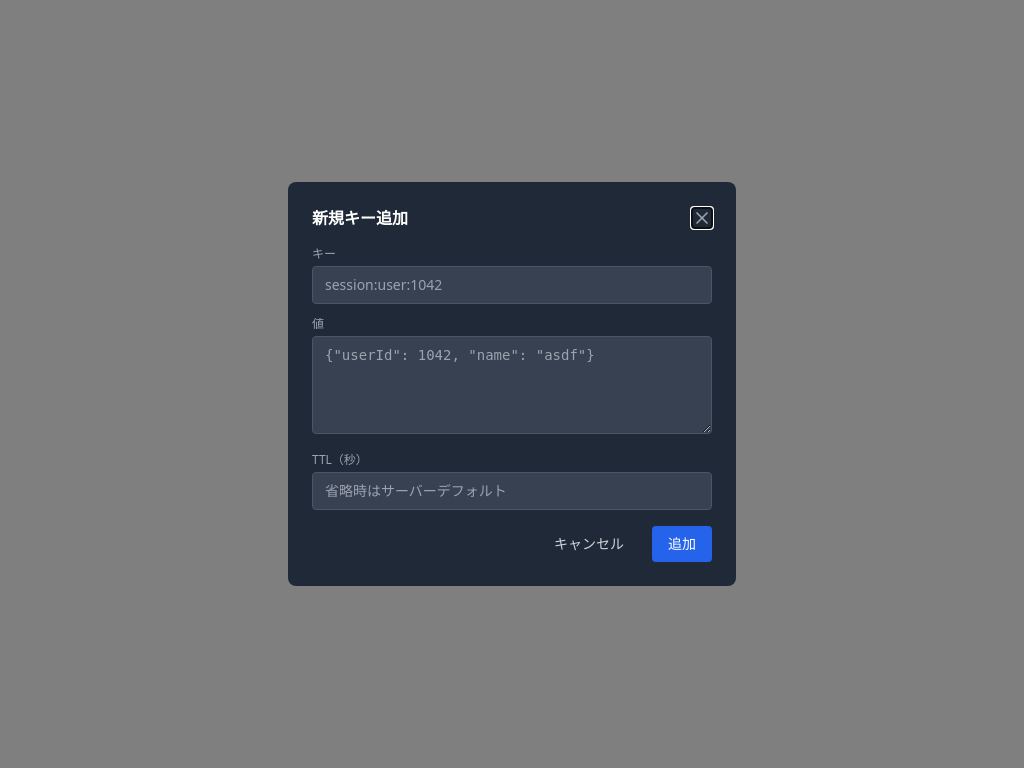
AddKeyModal › shows error when submitting with empty value
This screenshot has width=1024, height=768.
Type "my:key" into the field labelled "キー". click: (512, 285)
box: [312,266,712,304]
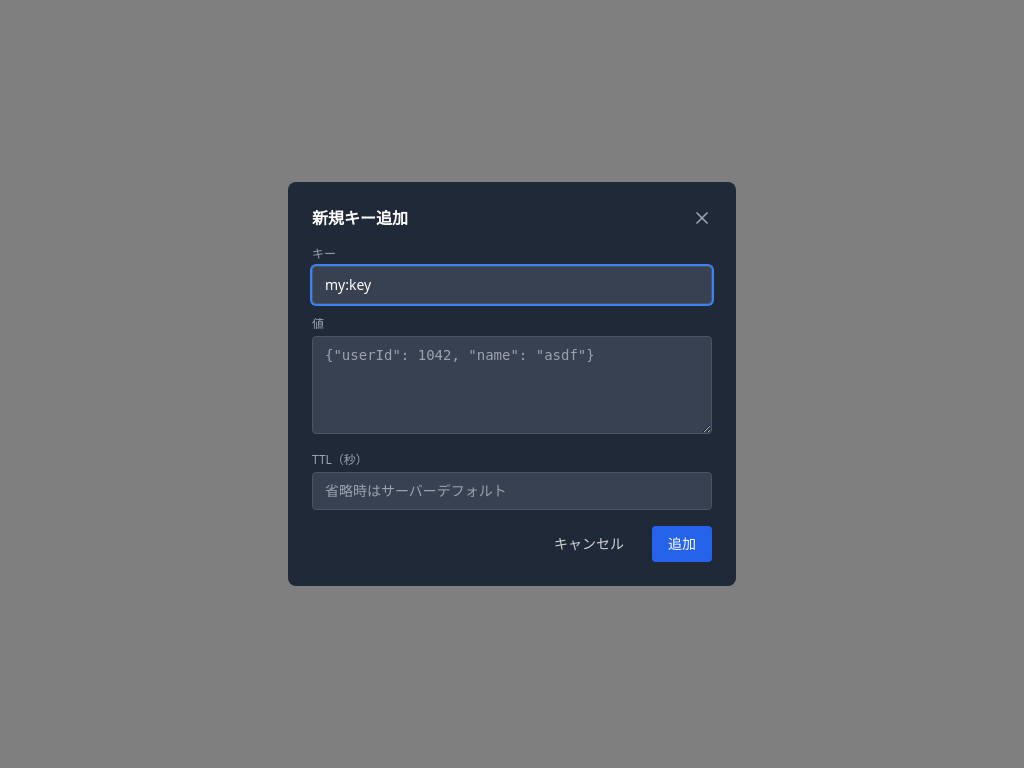
Click the button "追加". click: (682, 544)
box: [652,526,712,562]
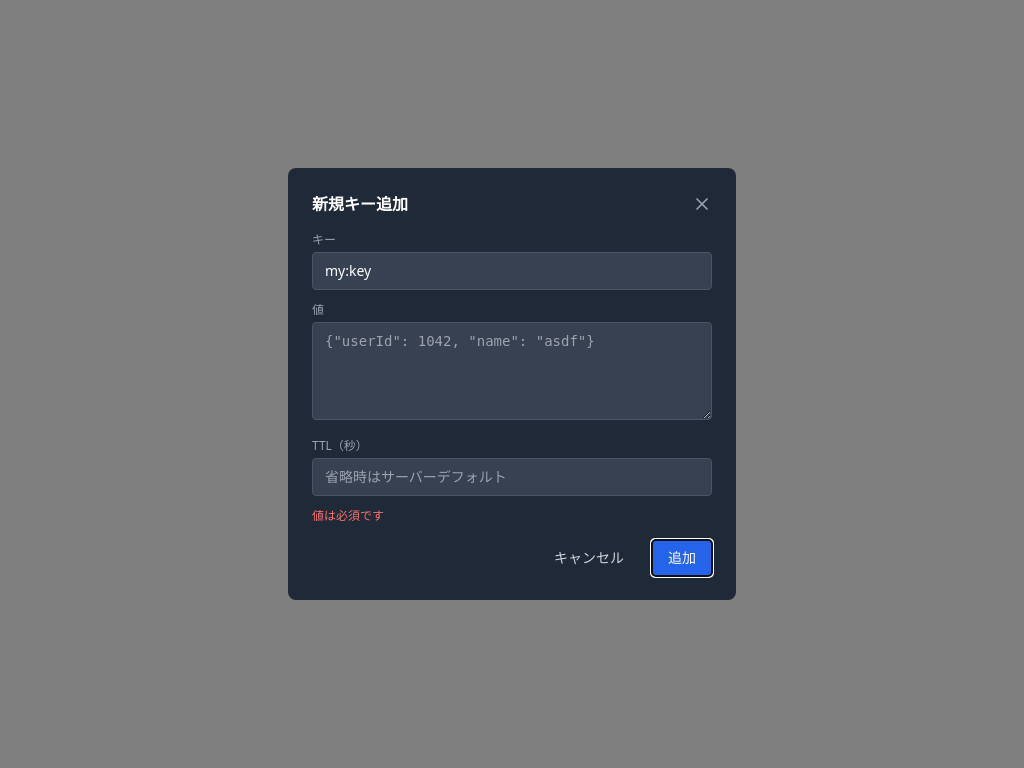
Expected: the text "値は必須です" is shown, [312,507,384,524]
